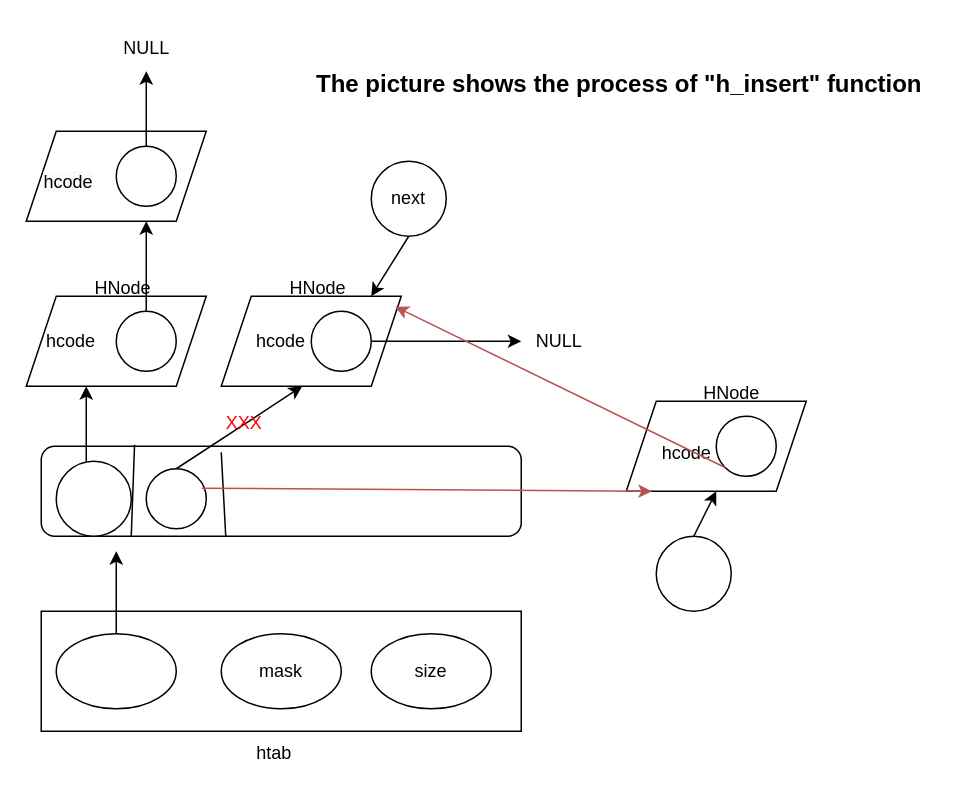
This 968x801 diagram has some shape labels left out. Here are the shapes that lost their labels. From the top down, the box of each, then its label:
(655, 535, 731, 611): node
(55, 632, 176, 709): tab
